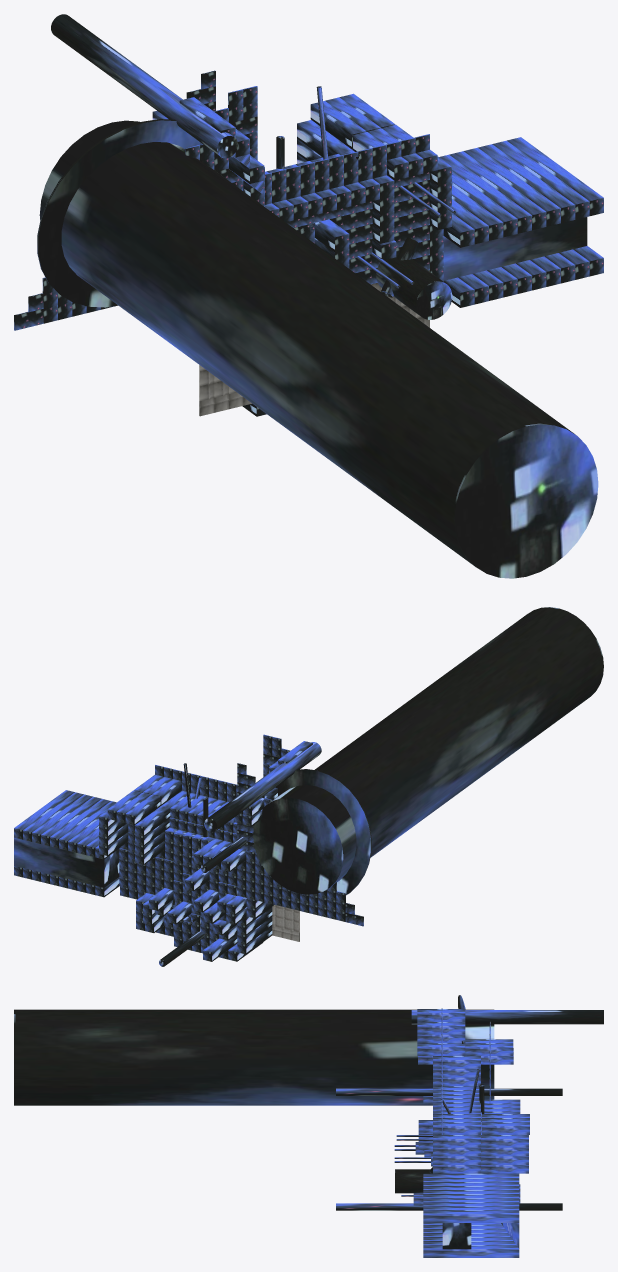
File: mimita-pipes.glb
The picture shows the model from 3 angles, top to bottom: view 1: azimuth 30°, elevation 25°; view 2: azimuth 150°, elevation 25°; view 3: azimuth 270°, elevation 25°; orthographic projection. The views are drawn at different scales.
Visible parts, largest first — view 1: Cylinder.012, Cylinder.013, Cylinder.026, Cube.077, Cylinder.004, Cube.482, Cube.479, Cube.480, Cube.481, Cube.483, Cube.478, Cube.538 (+6 smaller); view 2: Cylinder.012, Cube.076, Cylinder.013, Cylinder.026, Cube.525, Cube.538, Cube.480, Cube.483, Cube.479, Cube.481, Cube.482, Cube.478 (+1 smaller); view 3: Cylinder.012, Cylinder.026, Cylinder.033, Cube.483, Cube.490, Cylinder.031, Cube.077, Cylinder.004, Cube.554, Cube.557, Cube.560, Cube.556 (+23 smaller).
Boxes of the visible parts, box(x1,y1,x2,y2) form: Cylinder.012: box(39, 120, 598, 578); Cylinder.013: box(37, 119, 199, 307); Cylinder.026: box(51, 14, 237, 158); Cube.077: box(443, 217, 587, 280); Cylinder.004: box(376, 252, 452, 319); Cube.482: box(492, 140, 589, 219); Cube.479: box(449, 151, 546, 230); Cube.480: box(464, 147, 560, 226); Cube.481: box(478, 144, 575, 223); Cube.483: box(507, 137, 603, 215); Cube.478: box(439, 154, 531, 233); Cube.538: box(310, 101, 366, 149); Cylinder.012: box(253, 607, 603, 894); Cube.076: box(14, 837, 119, 887); Cylinder.013: box(275, 769, 371, 895); Cylinder.026: box(204, 742, 321, 832); Cube.525: box(135, 806, 170, 836); Cube.538: box(125, 794, 160, 825); Cube.480: box(41, 796, 101, 846); Cube.483: box(14, 790, 74, 839); Cube.479: box(50, 799, 110, 848); Cube.481: box(32, 794, 92, 843); Cube.482: box(23, 792, 83, 841); Cube.478: box(59, 801, 116, 850); Cylinder.012: box(14, 1009, 494, 1105); Cylinder.026: box(411, 1010, 603, 1024); Cylinder.033: box(336, 1088, 562, 1095); Cube.483: box(423, 1210, 519, 1222); Cube.490: box(423, 1245, 519, 1257); Cylinder.031: box(336, 1203, 562, 1210); Cube.077: box(442, 1223, 471, 1249); Cylinder.004: box(395, 1169, 430, 1193); Cube.554: box(465, 1043, 513, 1055); Cube.557: box(417, 1022, 465, 1034); Cube.560: box(417, 1009, 465, 1021); Cube.556: box(417, 1043, 465, 1055).
Bounding box in the file's own units: 740 × 440 × 1229.
Materials: 2 (2 with a texture image).
